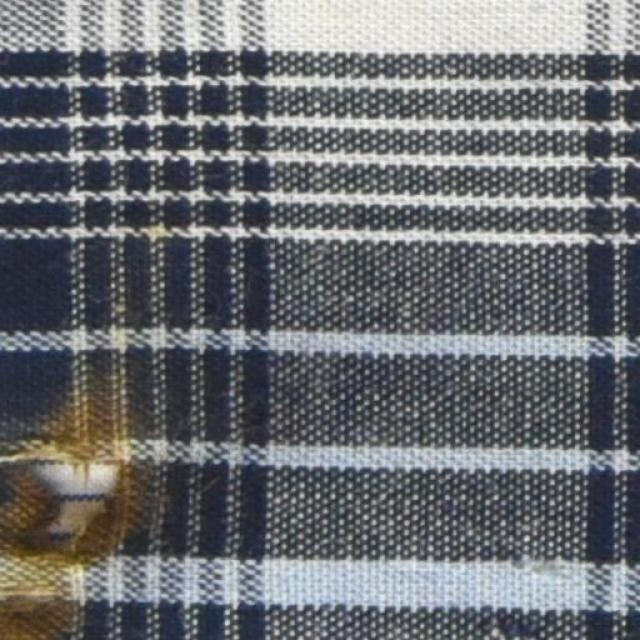Hole: (55, 456, 111, 536)
Stain: (0, 467, 97, 636), (4, 382, 134, 463), (86, 474, 145, 554)
